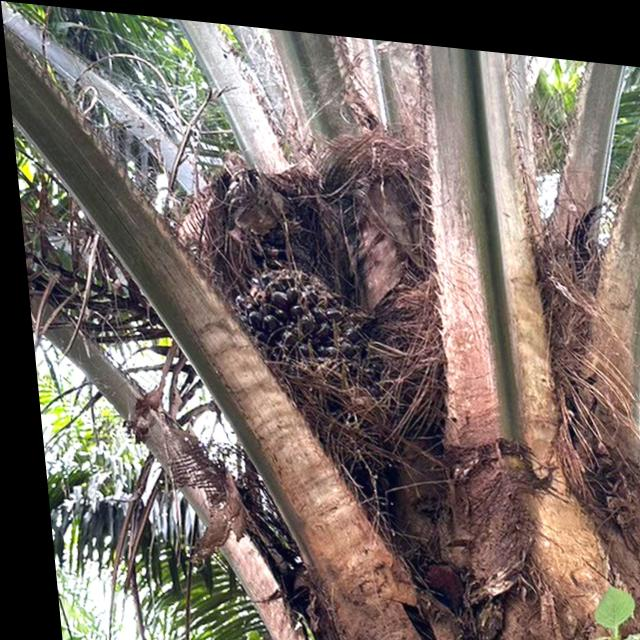almost: (221, 255, 388, 463)
